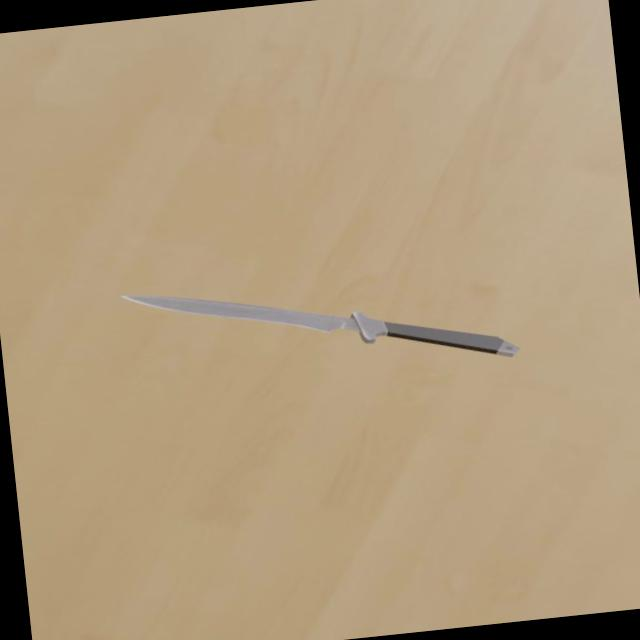knife: (384, 307, 519, 368)
